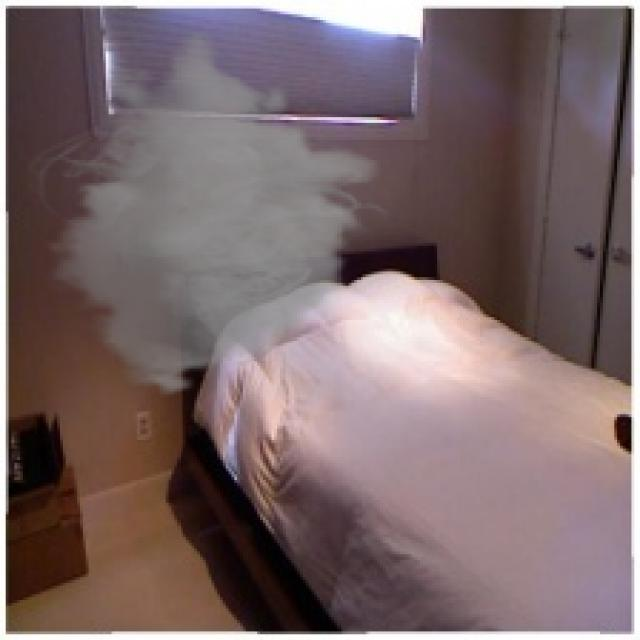smoke: (20, 29, 394, 397)
